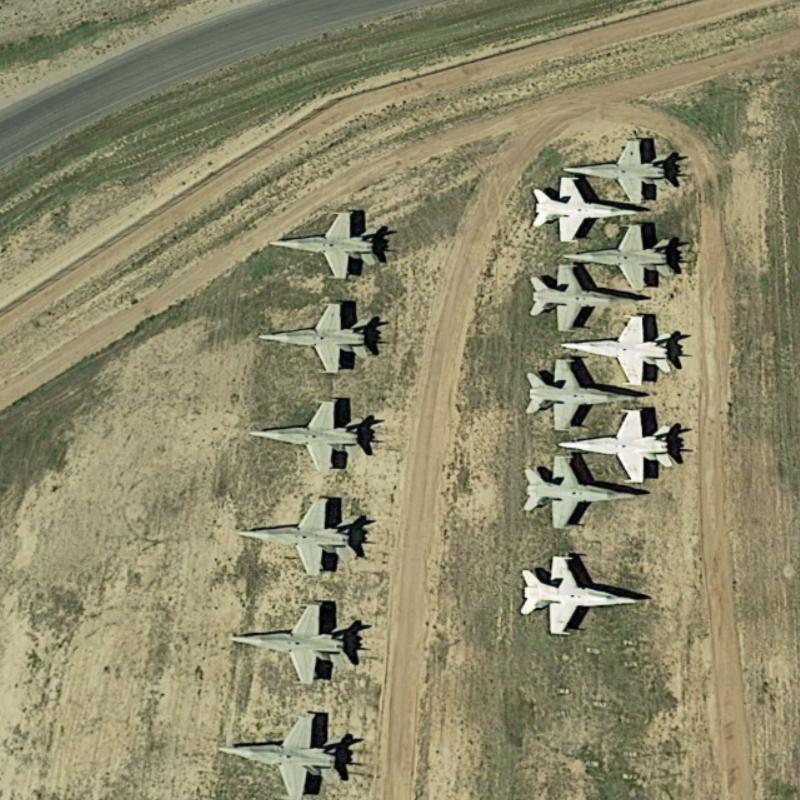A16: (231, 489, 370, 589), (220, 705, 364, 799), (513, 546, 654, 641), (230, 600, 361, 692), (255, 294, 398, 376), (550, 402, 689, 485), (521, 353, 651, 437), (244, 389, 381, 468), (518, 450, 648, 533), (554, 310, 690, 389), (257, 202, 387, 283), (553, 126, 683, 204), (526, 258, 657, 333), (560, 221, 679, 290), (532, 176, 647, 244)
